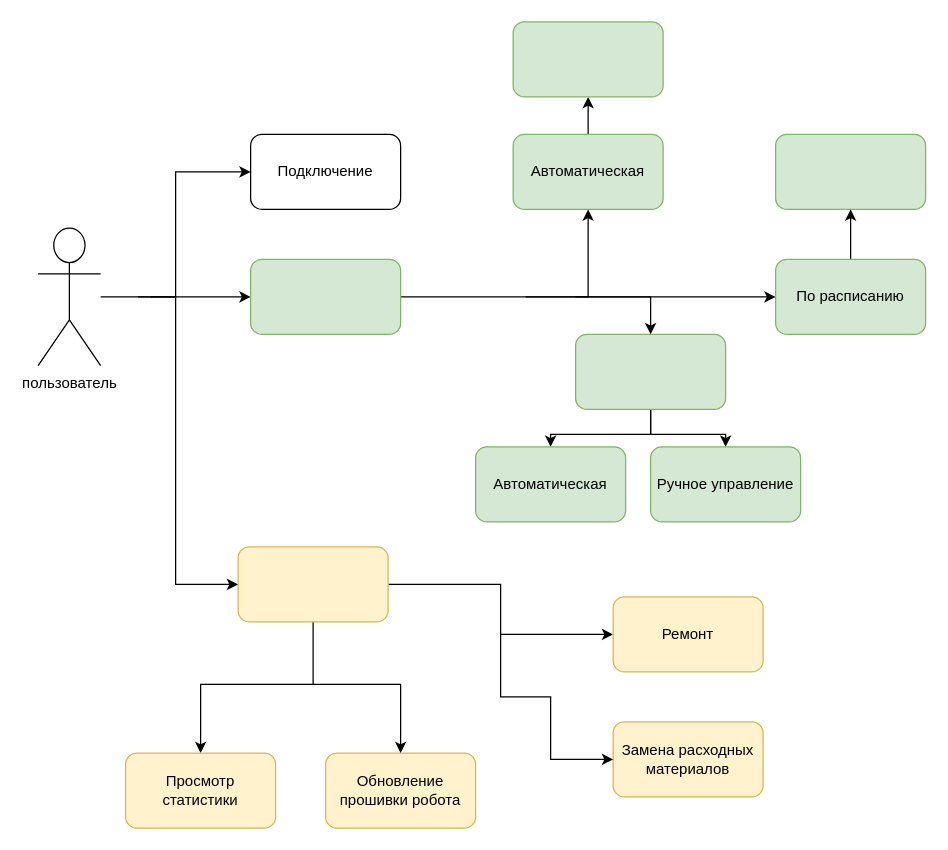
This 948x850 diagram has some shape labels left out. The shapes that lost their labels are listed below. From the top down, each one's centre as x and y in pixels, then its label:
the point at 587,59: Сценарии умного дома
the point at 850,171: График
the point at 325,296: Уборка
the point at 650,371: Срочная
the point at 312,584: Обслуживание
